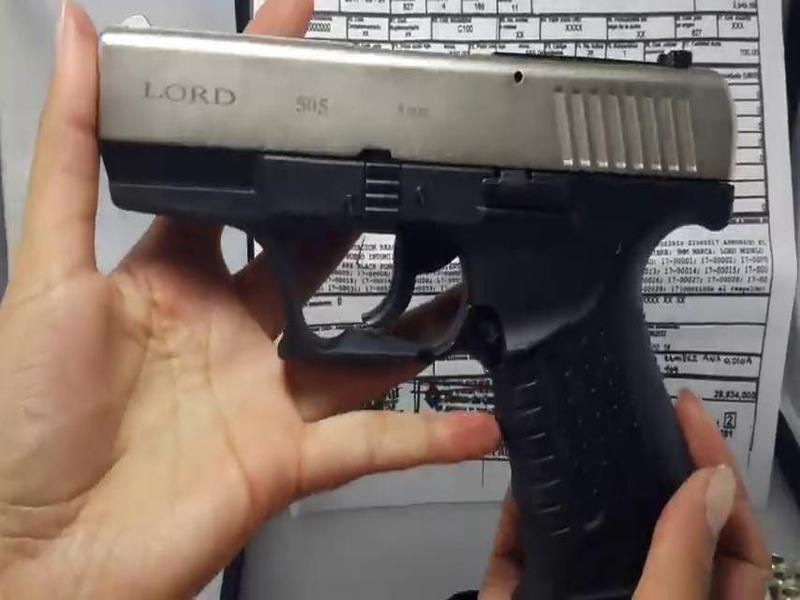Pistola: (83, 14, 767, 595)
